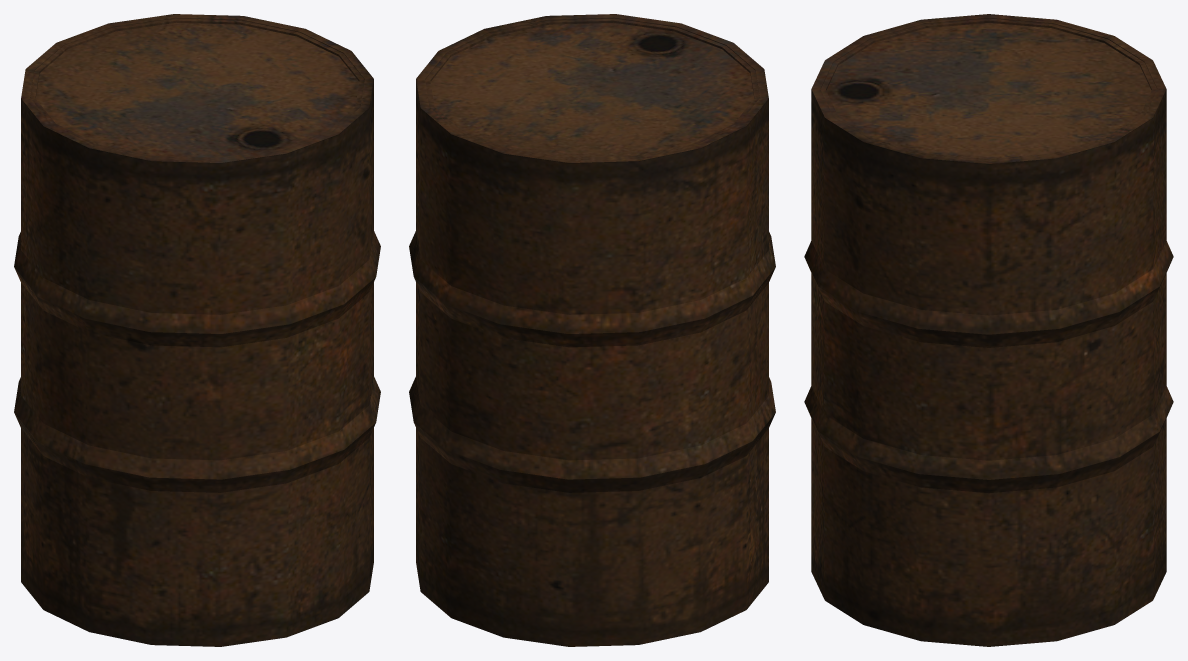
Rendered from BarrelOne.fbx.
3 renders of one model, left to right at view 1: azimuth 30°, elevation 25°; view 2: azimuth 150°, elevation 25°; view 3: azimuth 270°, elevation 25°, orthographic.
Parts seen in each view (by area): view 1: metal_barrel_mp_3, metal_barrel_mp_3.001; view 2: metal_barrel_mp_3, metal_barrel_mp_3.001; view 3: metal_barrel_mp_3, metal_barrel_mp_3.001.
Part boxes in pixels (<box>): metal_barrel_mp_3: <box>14,14,380,646</box>; metal_barrel_mp_3.001: <box>35,22,359,157</box>; metal_barrel_mp_3: <box>409,14,775,646</box>; metal_barrel_mp_3.001: <box>430,22,754,157</box>; metal_barrel_mp_3: <box>804,14,1173,646</box>; metal_barrel_mp_3.001: <box>826,23,1151,158</box>.
Bounding box in the file's own units: 74.88 × 108 × 74.88.
1 material, 1 textured.
